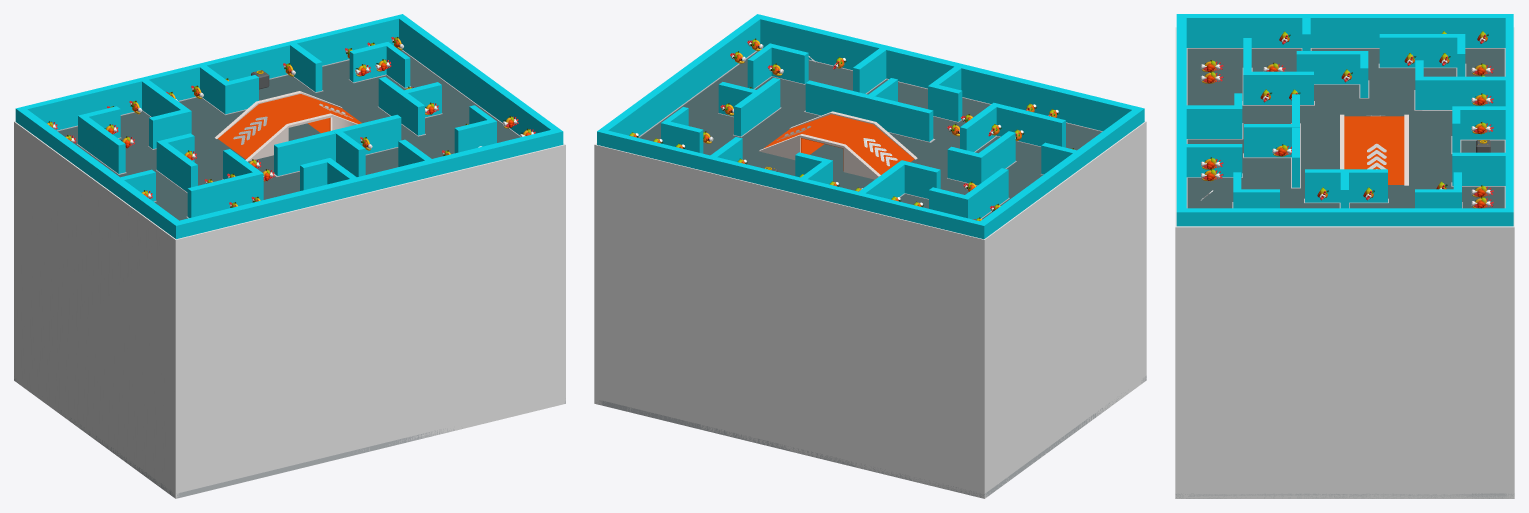
The model's file is Level_13.fbx.
The picture shows the model from 3 angles, left to right: view 1: azimuth 30°, elevation 25°; view 2: azimuth 150°, elevation 25°; view 3: azimuth 270°, elevation 25°; orthographic projection. The views are drawn at different scales.
Parts seen in each view (by area): view 1: CompoundWall__1_, CompoundWall, Base, Up___Down_Object__1_, Walls_19, Walls_7, Walls_8, Walls_5, Walls_14, Walls_11, Walls_3, Walls_22 (+9 smaller); view 2: CompoundWall__1_, CompoundWall, Base, Walls_19, Up___Down_Object__1_, Walls_7, Walls_5, Up___Down_Object__2_, Walls_8, Walls_14, Walls_6, Walls_16 (+12 smaller); view 3: CompoundWall__1_, Base, CompoundWall, Up___Down_Object__1_, Walls_8, Walls_4, Walls_5, Walls_6, Walls_13, Walls_14, Walls_3, Walls_1 (+10 smaller).
Part boxes in pixels (x1,y1,x2,y2): CompoundWall__1_: [14, 121, 565, 498]; CompoundWall: [15, 14, 563, 239]; Base: [58, 50, 519, 220]; Up___Down_Object__1_: [218, 94, 361, 161]; Walls_19: [273, 114, 401, 177]; Walls_7: [186, 172, 261, 218]; Walls_8: [77, 114, 126, 174]; Walls_5: [377, 76, 425, 136]; Walls_14: [155, 140, 197, 193]; Walls_11: [148, 108, 191, 149]; Walls_3: [288, 42, 323, 93]; Walls_22: [221, 75, 258, 114]; CompoundWall__1_: [594, 121, 1146, 498]; CompoundWall: [597, 14, 1144, 239]; Base: [639, 51, 1101, 219]; Walls_19: [804, 80, 935, 142]; Up___Down_Object__1_: [763, 111, 917, 174]; Walls_7: [996, 104, 1065, 147]; Walls_5: [733, 77, 781, 137]; Up___Down_Object__2_: [759, 134, 880, 179]; Walls_8: [961, 168, 1009, 219]; Walls_14: [974, 131, 1016, 185]; Walls_6: [960, 102, 999, 152]; Walls_16: [768, 44, 808, 84]; CompoundWall__1_: [1175, 27, 1514, 498]; Base: [1187, 49, 1504, 208]; CompoundWall: [1176, 14, 1513, 226]; Up___Down_Object__1_: [1340, 114, 1404, 184]; Walls_8: [1378, 34, 1465, 68]; Walls_4: [1422, 76, 1510, 110]; Walls_5: [1304, 169, 1388, 203]; Walls_6: [1242, 71, 1314, 105]; Walls_13: [1186, 105, 1242, 139]; Walls_14: [1296, 51, 1368, 84]; Walls_3: [1451, 152, 1510, 186]; Walls_1: [1186, 144, 1242, 177].
Bounding box in the file's own units: 189 × 126 × 136.
